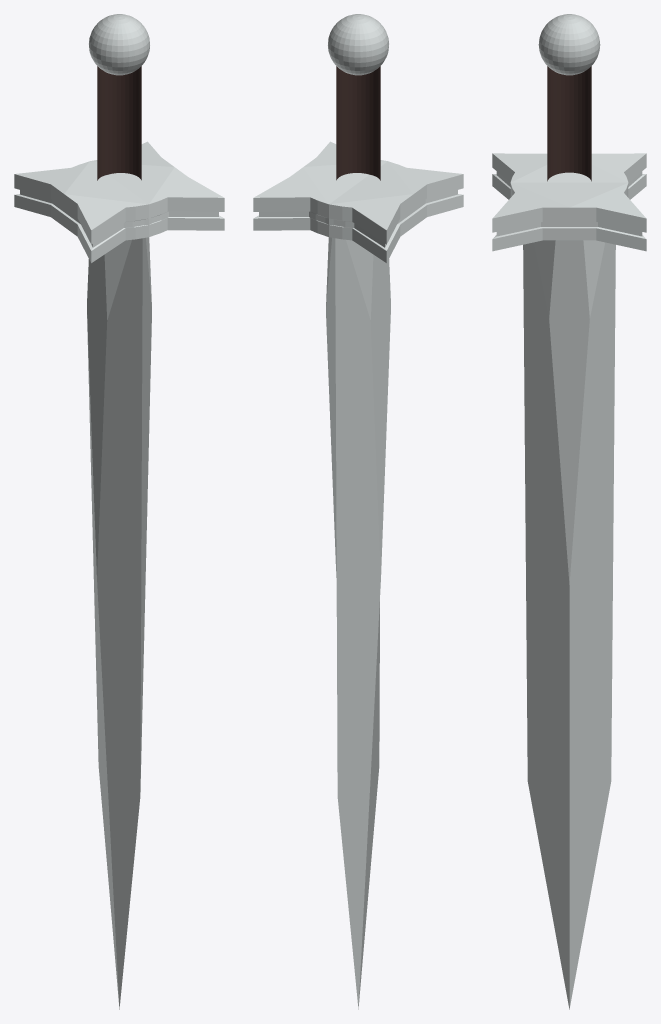
Rendered from sword.glb.
3 views of the same model, side by side, from view 1: azimuth 30°, elevation 25°; view 2: azimuth 150°, elevation 25°; view 3: azimuth 270°, elevation 25° (orthographic).
Parts seen in each view (by area): view 1: sword.001; view 2: sword.001; view 3: sword.001.
Boxes of the visible parts, x1,y1,x2,y2 form: sword.001: (14,14,224,1009); sword.001: (253,14,463,1009); sword.001: (492,14,646,1009).
Size of the model in its own units: 0.3592 by 2.56 by 0.3592.
